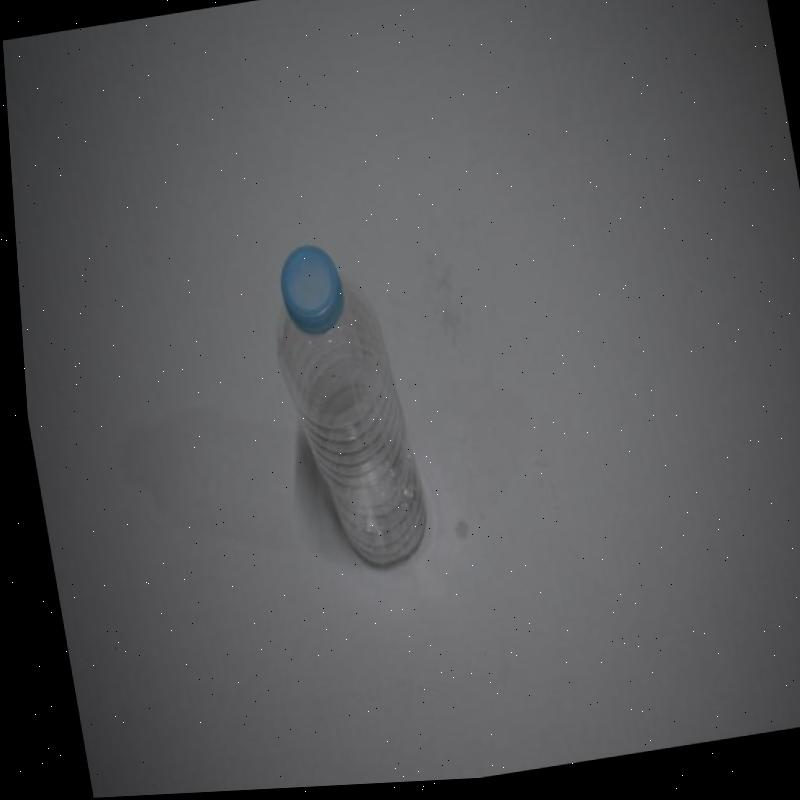botella: (253, 240, 427, 587)
